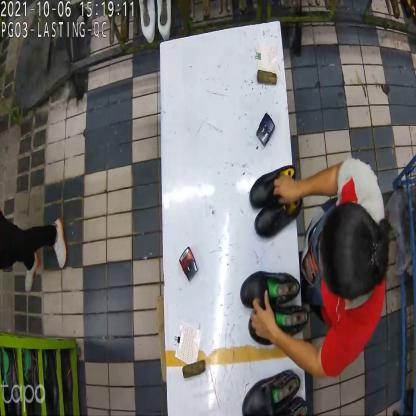shoes: (239, 263, 311, 347), (248, 159, 304, 238), (240, 360, 309, 415)
stamp: (256, 112, 276, 148), (180, 247, 198, 281)
